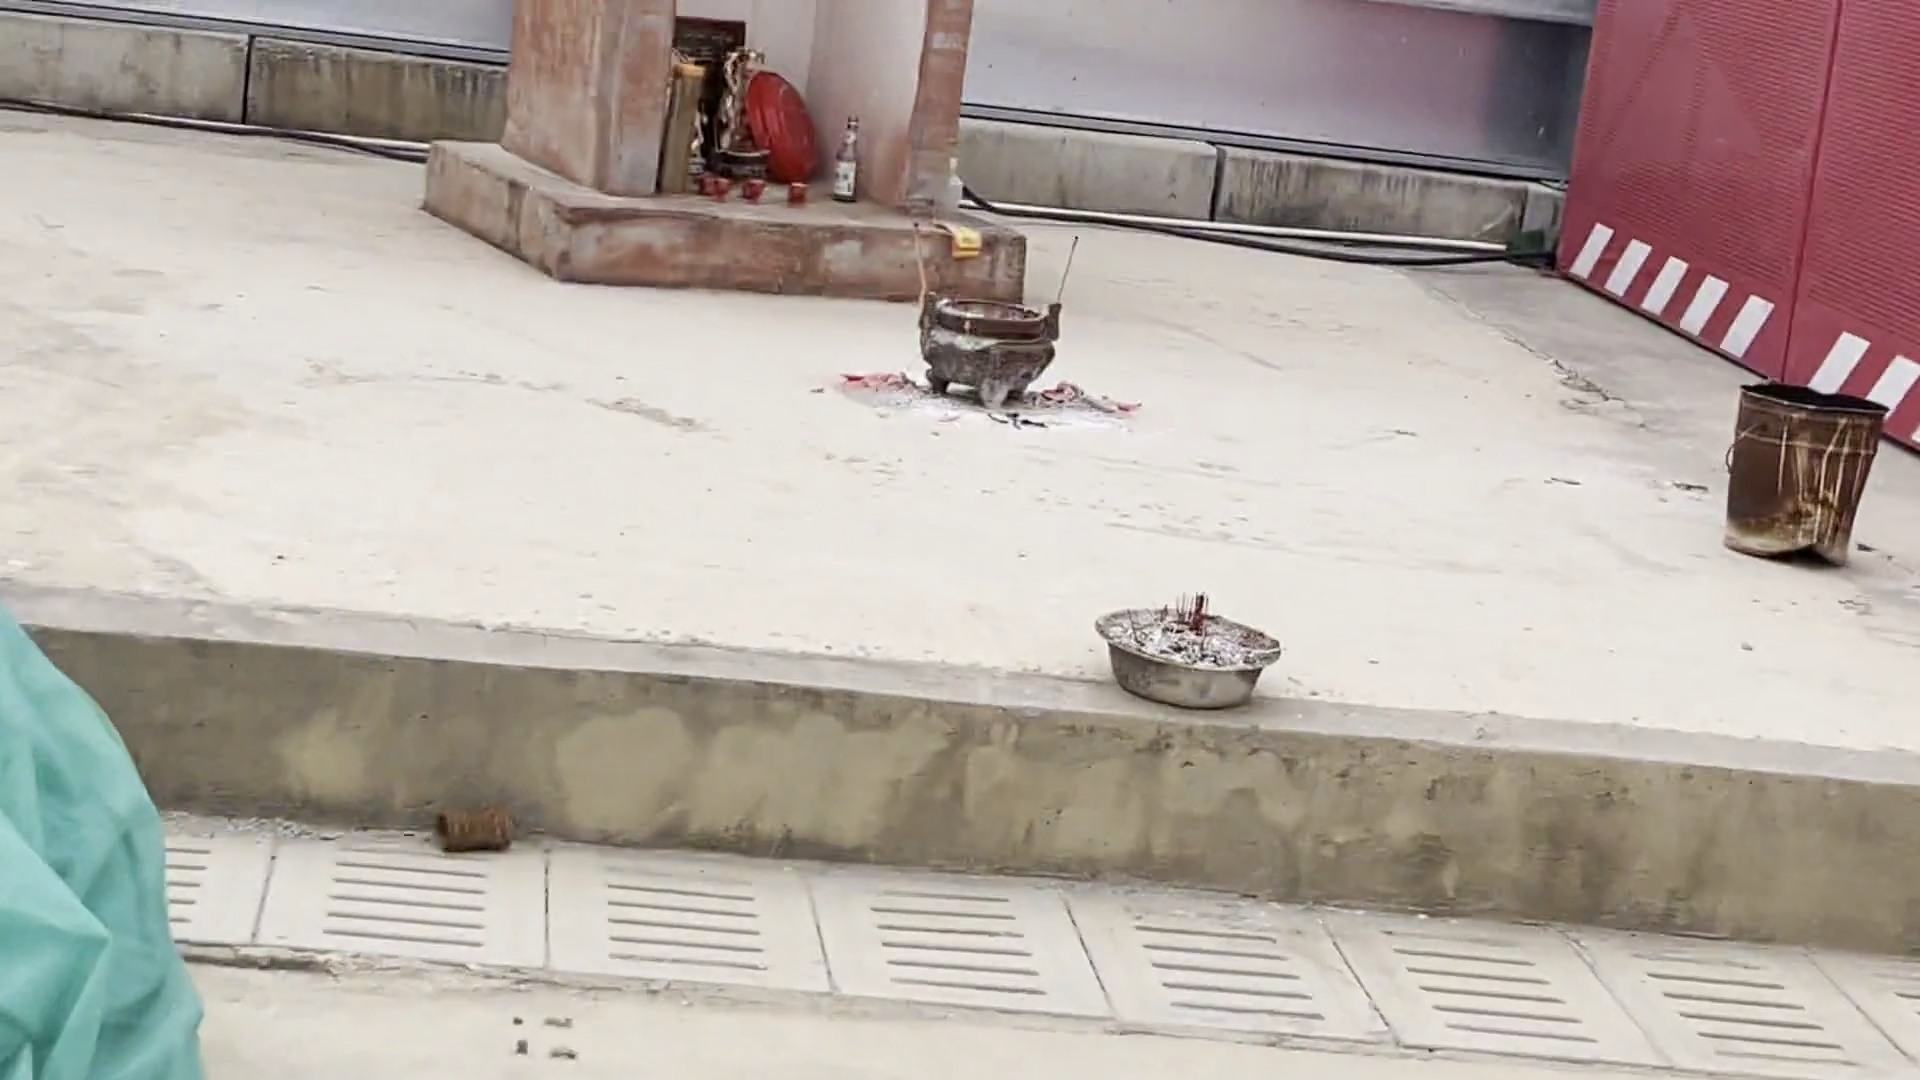fence: (1553, 12, 1920, 426)
